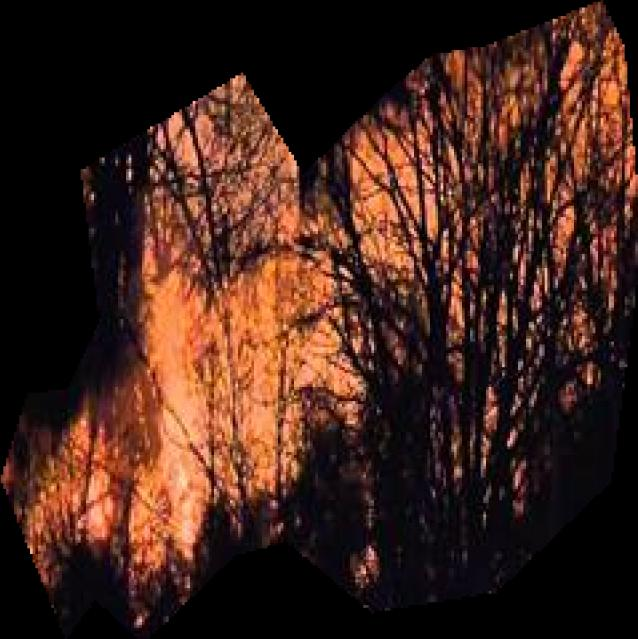fire: (0, 0, 638, 639)
